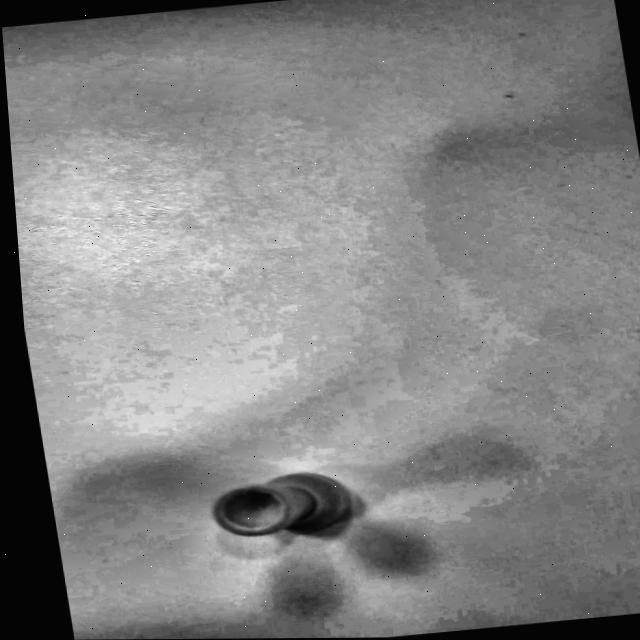white-rook: (173, 449, 396, 576)
